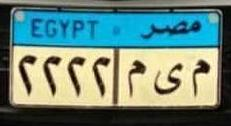2: (15, 52, 39, 98), (89, 55, 112, 98), (66, 54, 88, 98), (42, 54, 63, 98)
meem: (125, 53, 148, 102), (190, 56, 211, 99)
yaa: (154, 57, 184, 98)
